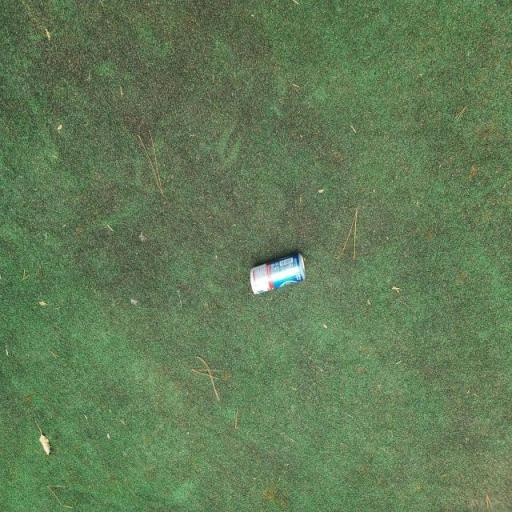metal: (247, 232, 320, 328)
